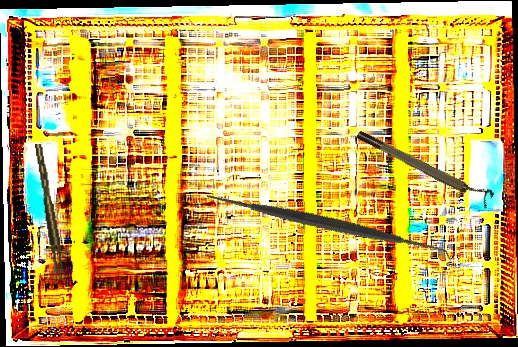Fixation Ring: (354, 122, 496, 210)
Spatula Surgical: (202, 101, 452, 347)
Tissue Forceps: (35, 142, 64, 275)
